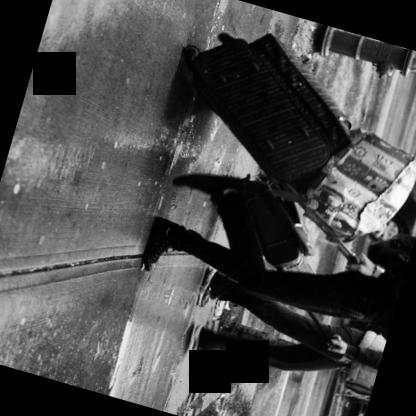backpack: (306, 128, 416, 238)
handbag: (304, 129, 416, 239)
suitcase: (190, 36, 366, 269), (240, 177, 315, 269)
